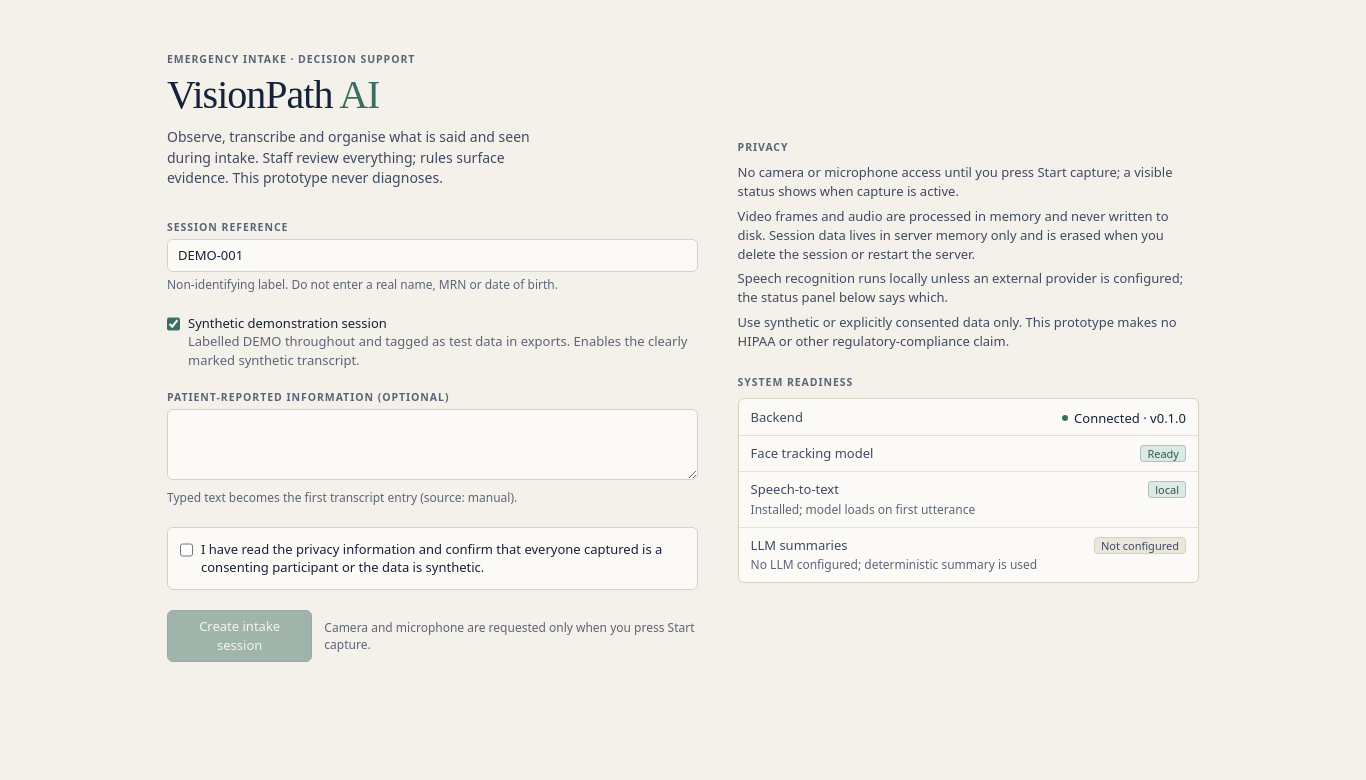
Test case: initial rendering & setup › creates a session, sends the token only as a header/query, and opens the socket without activating devices
The width and height of the screenshot is (1366, 780).
Expected: the text "Connected · v0.1.0" is shown, x1=1062 y1=409 x2=1186 y2=427
Click the checkbox labelled "I have read the privacy information": (186, 550) x1=180 y1=542 x2=193 y2=558
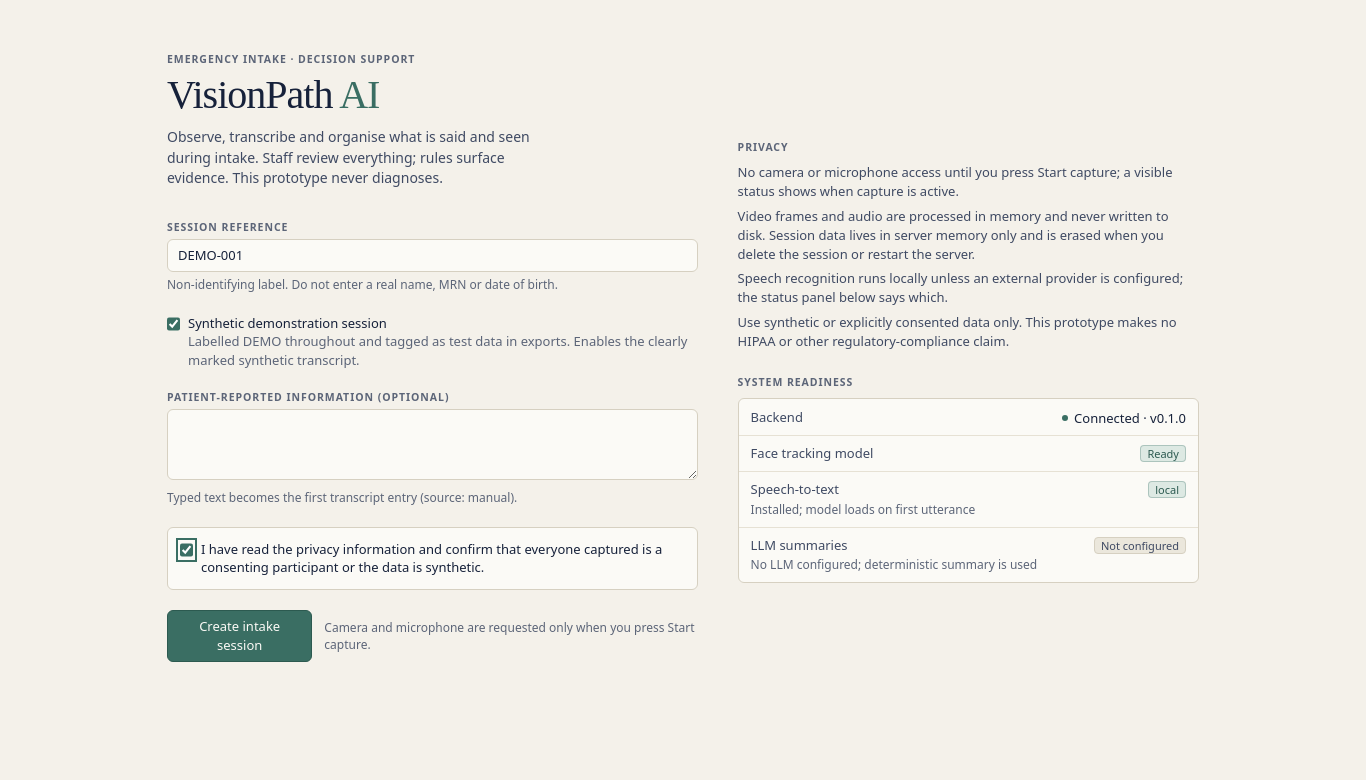
Click the button "Create intake session": (240, 636) x1=167 y1=610 x2=312 y2=662
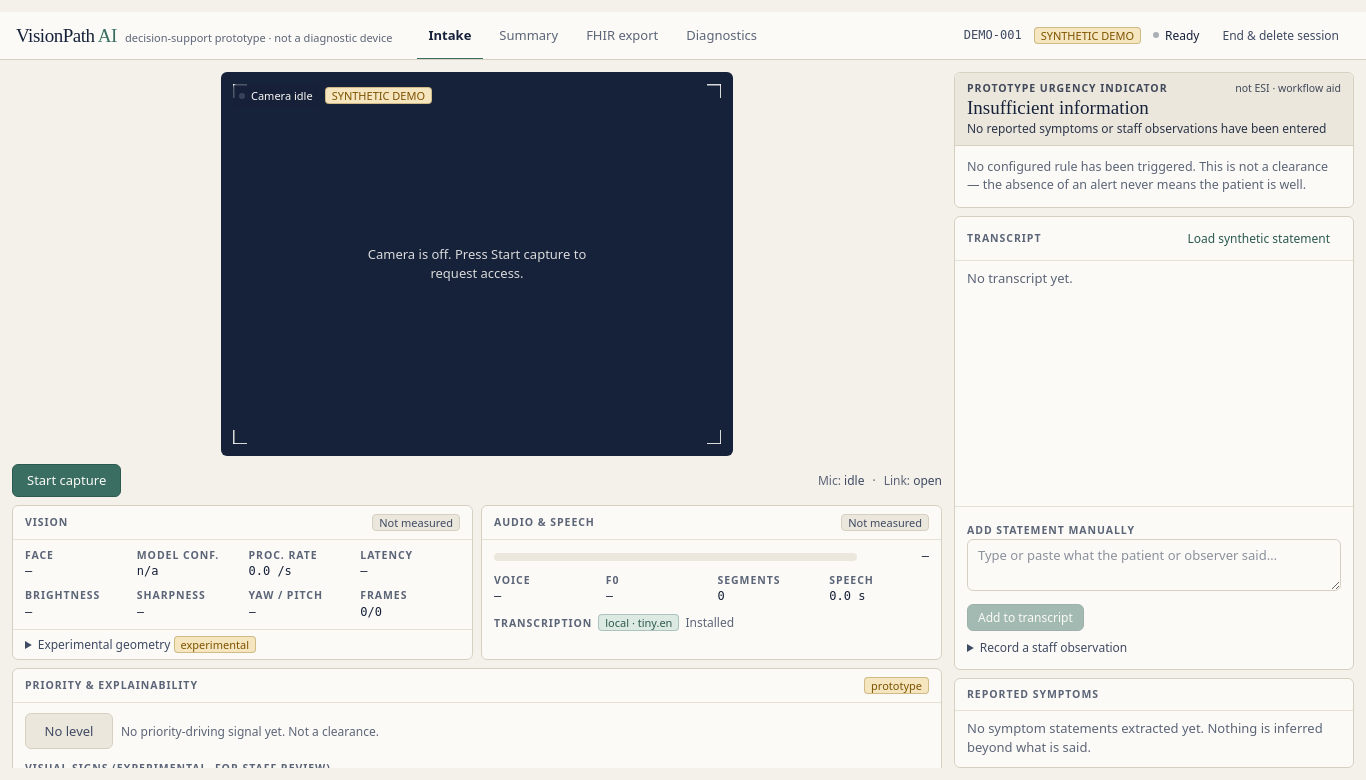
Result: the text "DEMO-001" is shown at x1=964 y1=27 x2=1022 y2=44
Result: the text with test id "ws-status" reads "open" at x1=913 y1=472 x2=942 y2=489
Result: the text with test id "session-ref" reads "DEMO-001" at x1=964 y1=28 x2=1022 y2=42
